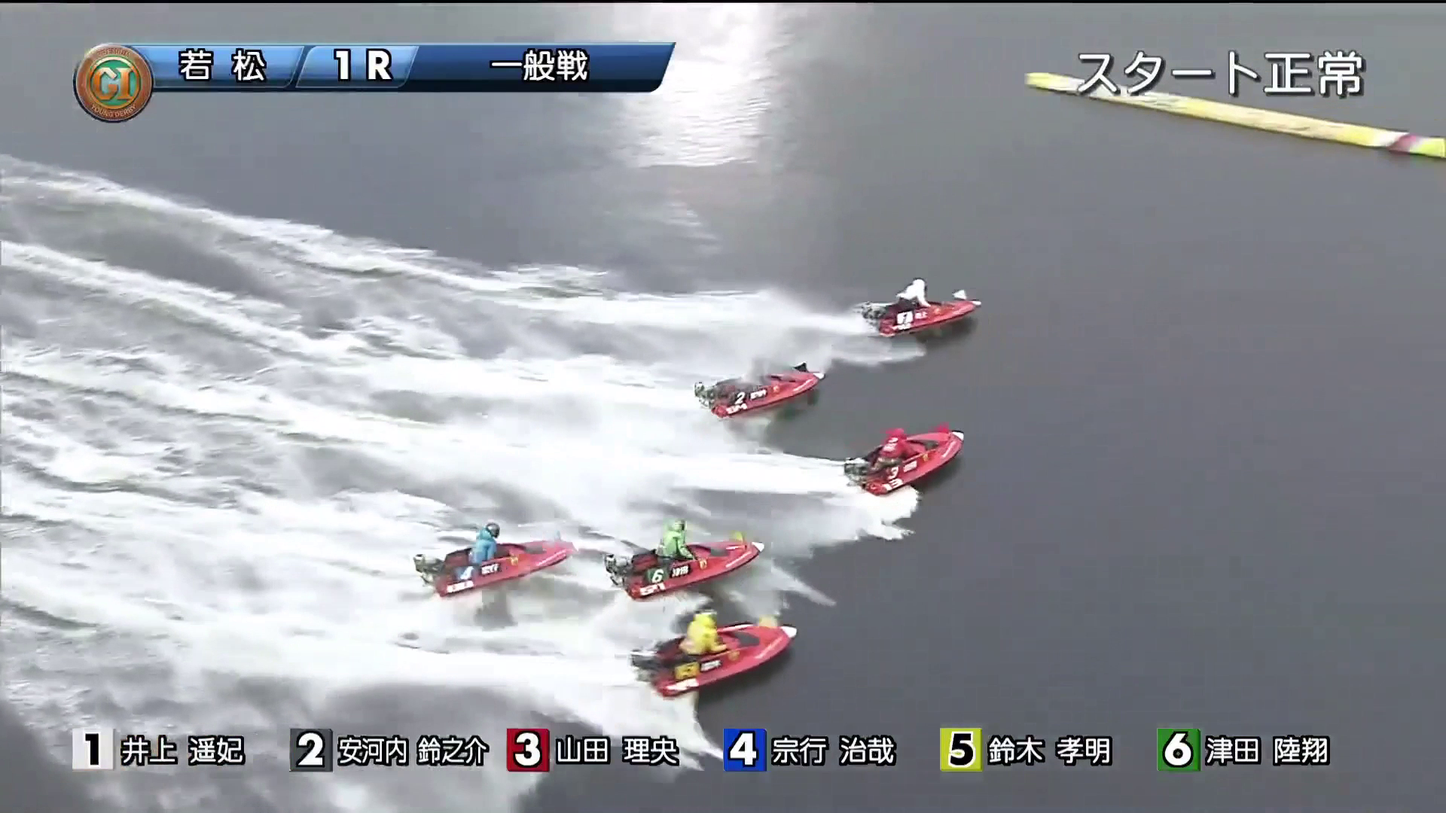１号艇: (886, 283, 1023, 336)
２号艇: (691, 353, 820, 414)
３号艇: (854, 439, 994, 486)
４号艇: (628, 525, 751, 590)
５号艇: (417, 536, 541, 591)
６号艇: (670, 629, 769, 686)
